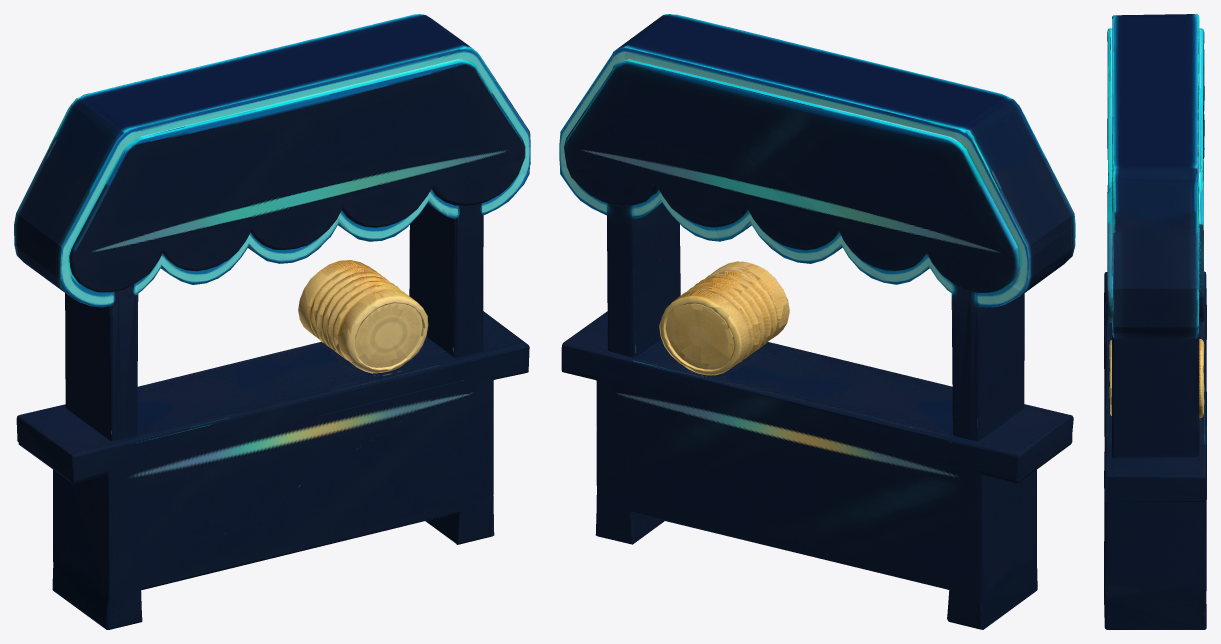
Rendered from hub_prop_bazaar.glb.
3 views of the same model, side by side, from view 1: azimuth 30°, elevation 25°; view 2: azimuth 150°, elevation 25°; view 3: azimuth 270°, elevation 25° (orthographic). The views are drawn at different scales.
Bounding box in the file's own units: 1 × 1 × 0.2065.
Materials: 1 (1 with a texture image).
